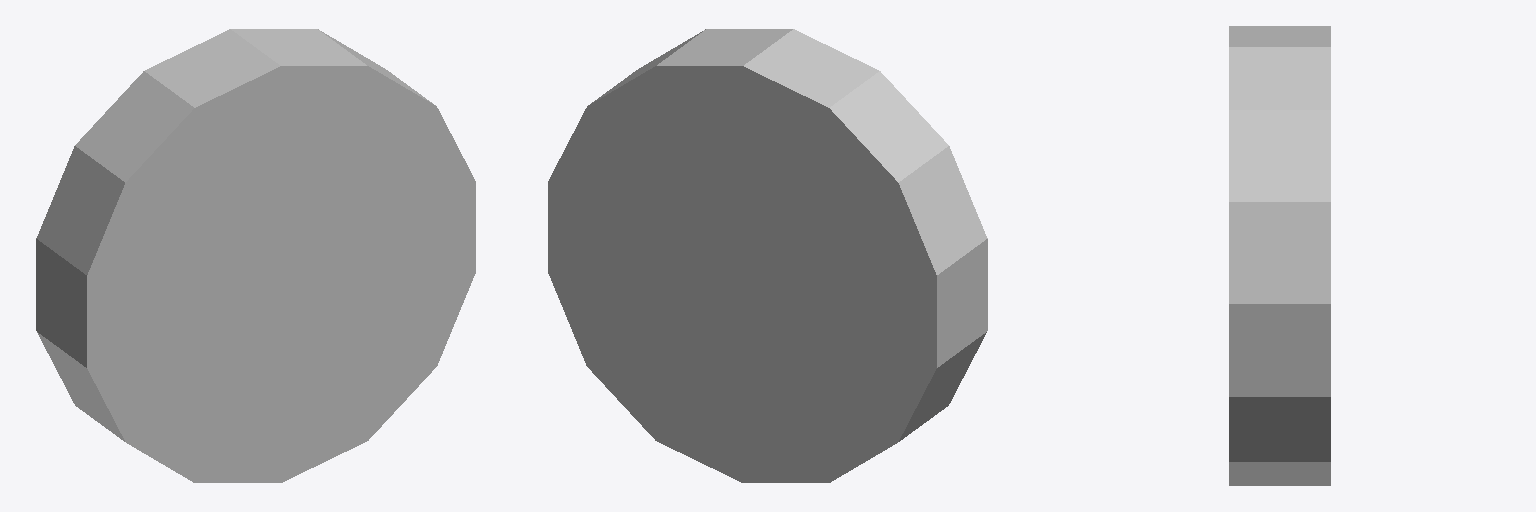
File: palanca_rueda.obj
The picture shows the model from 3 angles: view 1: azimuth 30°, elevation 25°; view 2: azimuth 150°, elevation 25°; view 3: azimuth 270°, elevation 25°; orthographic projection.
Visible parts, largest first — view 1: palanca_rueda1 palancas_prueba; view 2: palanca_rueda1 palancas_prueba; view 3: palanca_rueda1 palancas_prueba.
Boxes of the visible parts, <box> form: palanca_rueda1 palancas_prueba: <box>36,29,475,482</box>; palanca_rueda1 palancas_prueba: <box>548,29,987,482</box>; palanca_rueda1 palancas_prueba: <box>1229,26,1330,485</box>.
Bounding box in the file's own units: 13.46 × 13.8 × 3.04.